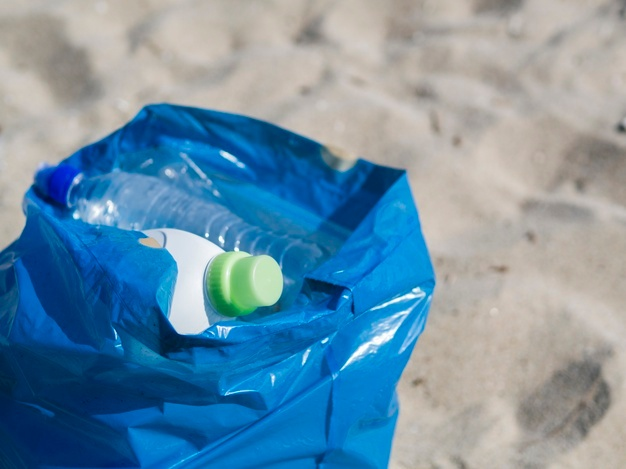plastic_bottle: (33, 140, 408, 381), (89, 195, 306, 384)
